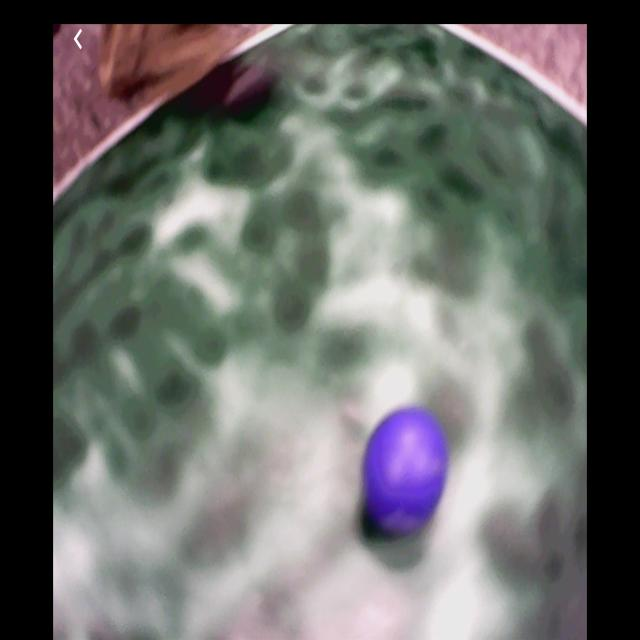ball: (364, 409, 450, 533)
